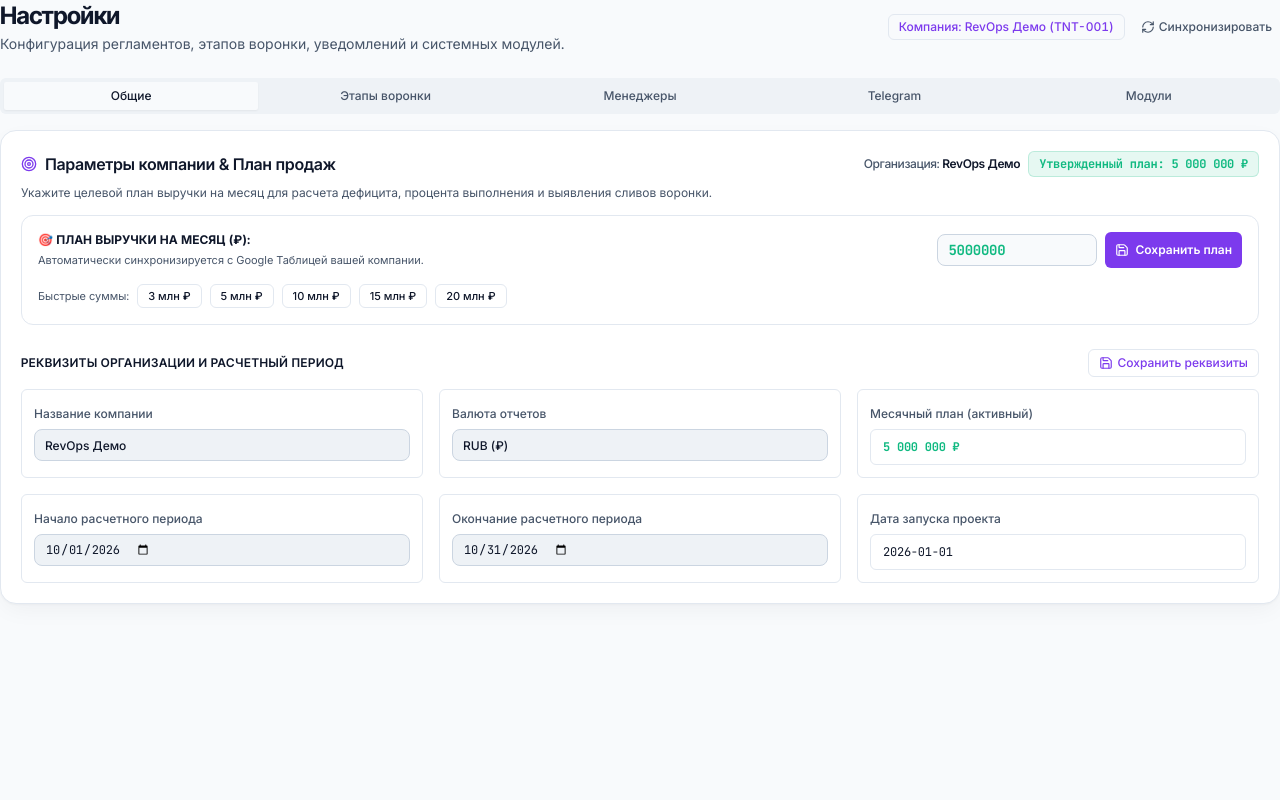
Scenario: SettingsPage › populates preset values when opening add manager form
Expected: the text "RevOps Демо" is shown, [942,156,1020,171]
Press Enter in the tab with test id "tab-managers", box [513,82,767,110]
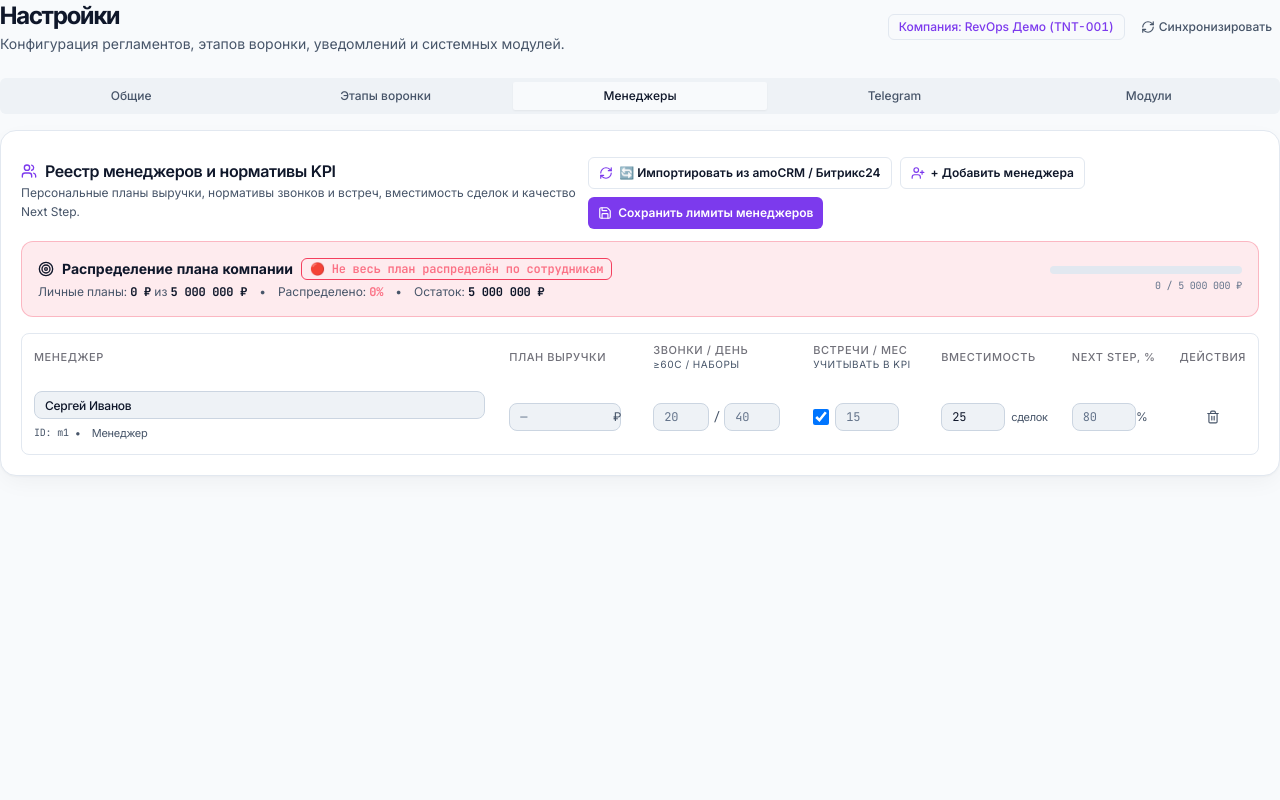
Click the button with test id "btn-add-manager". click: [992, 173]
box: [900,157,1085,189]
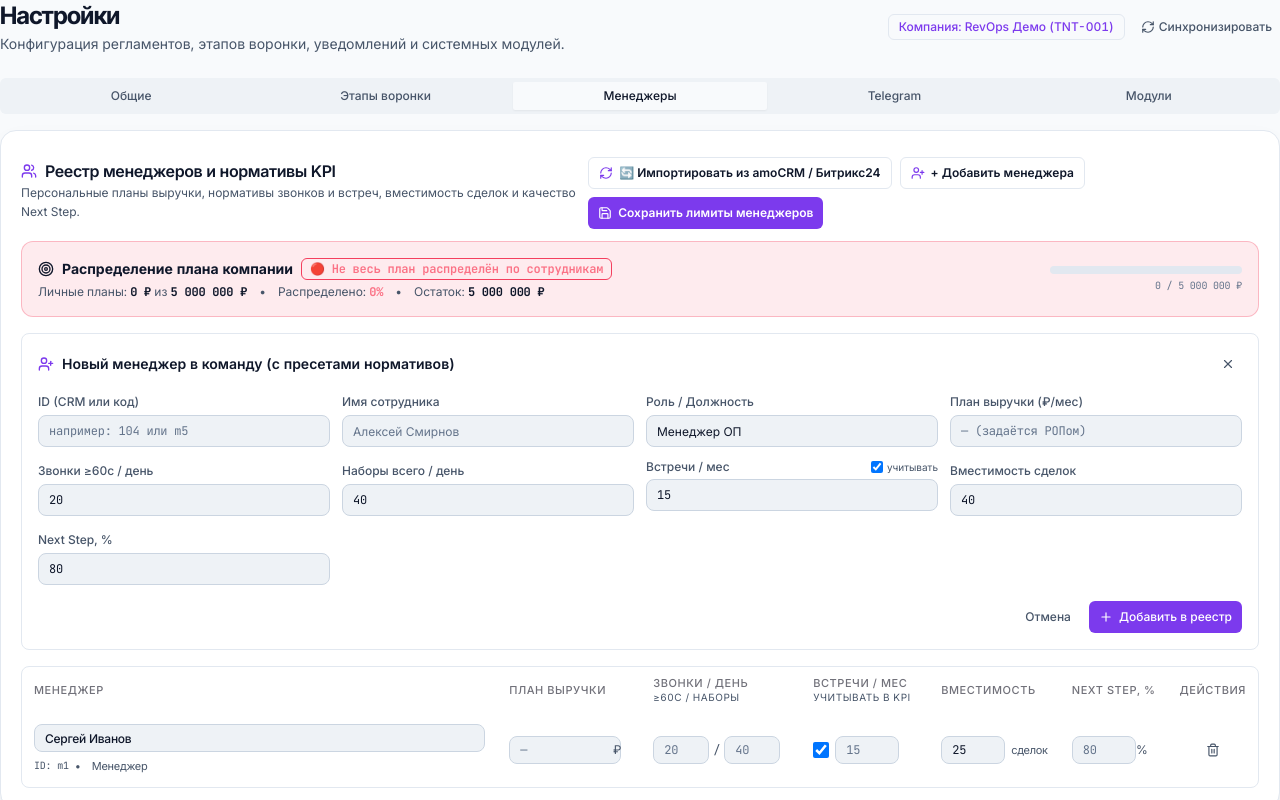
Result: the number field with test id "input-new-manager-calls" holds "20" at [38,484,330,516]
Result: the number field with test id "input-new-manager-meetings" holds "15" at [646,479,938,511]
Result: the number field with test id "input-new-manager-capacity" holds "40" at [950,484,1242,516]
# Fill new manager credentials
Type "m-new" into the field with test id "input-new-manager-id". click: [184, 431]
box: [38,415,330,447]
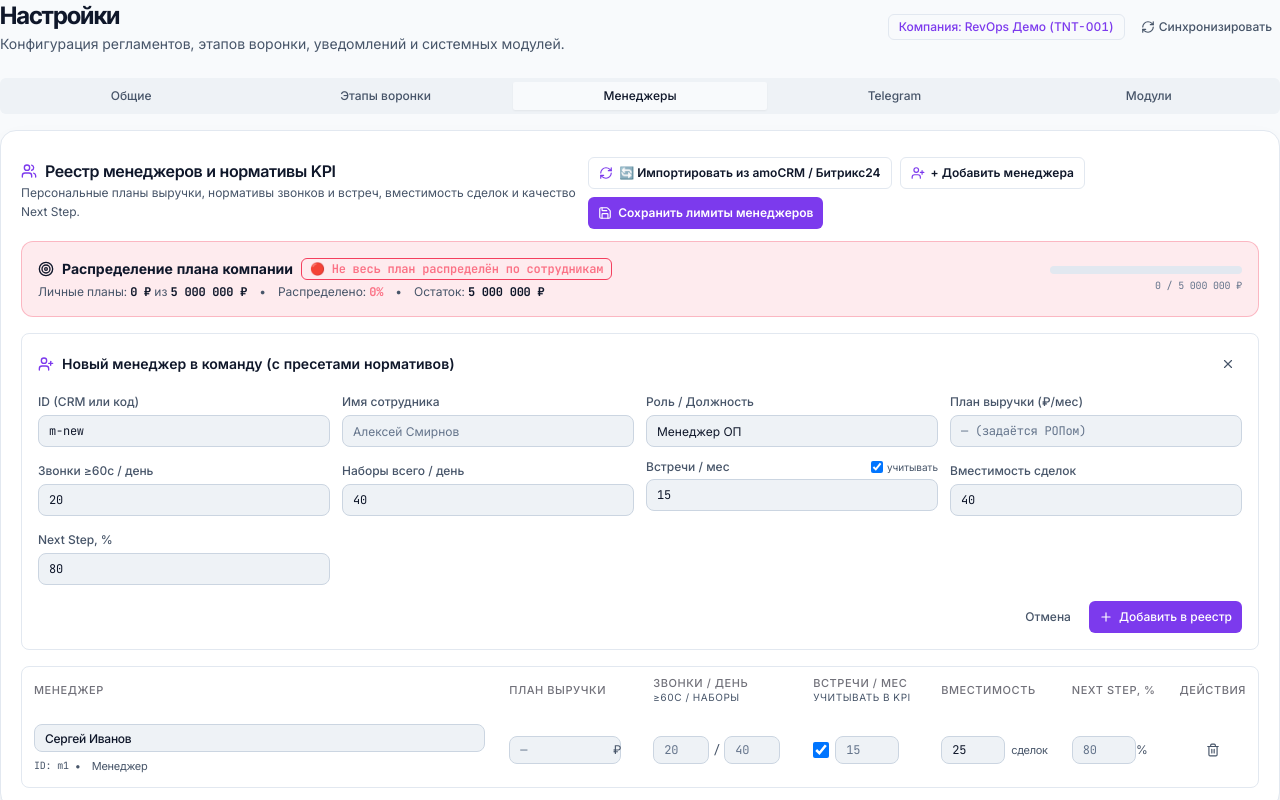
Type "Ольга Николаева" into the field with test id "input-new-manager-name". click: [488, 431]
box: [342,415,634,447]
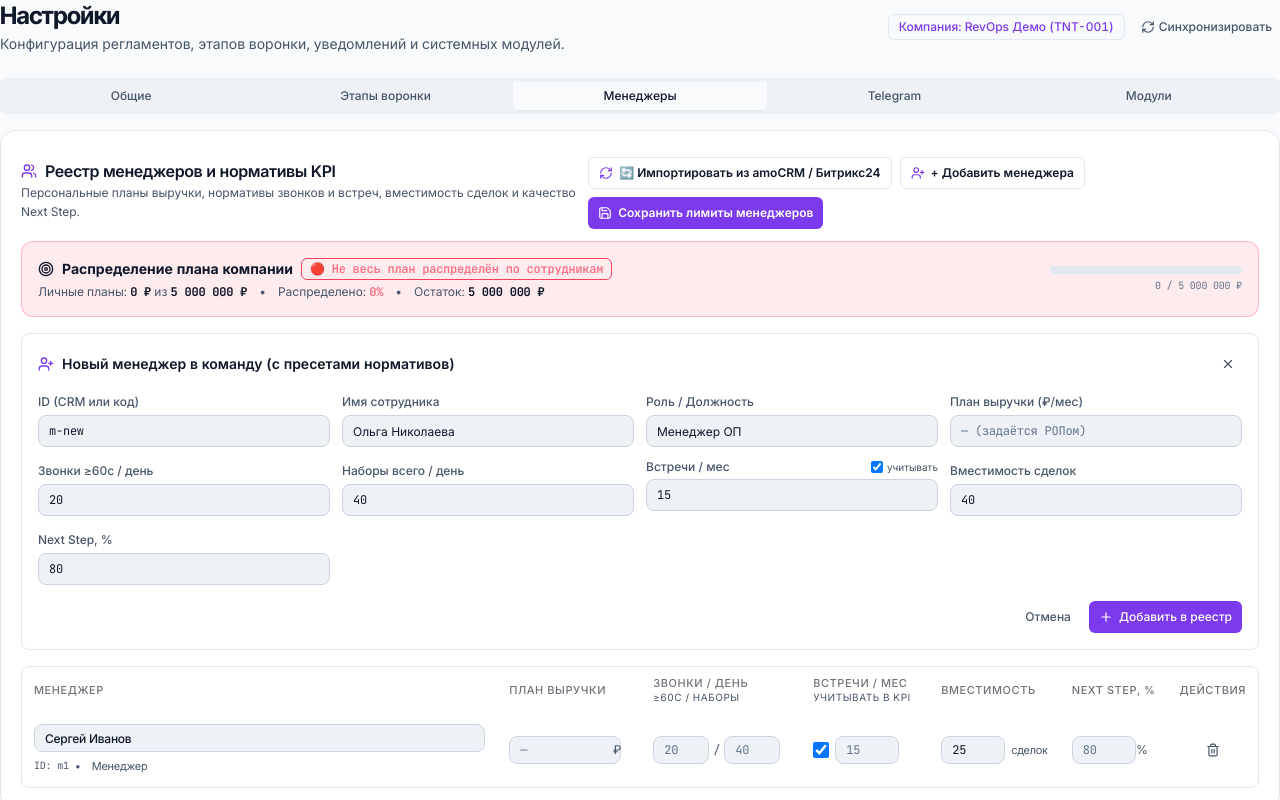
Type "1300000" into the number field with test id "input-new-manager-revenue". click: [1096, 431]
box: [950,415,1242,447]
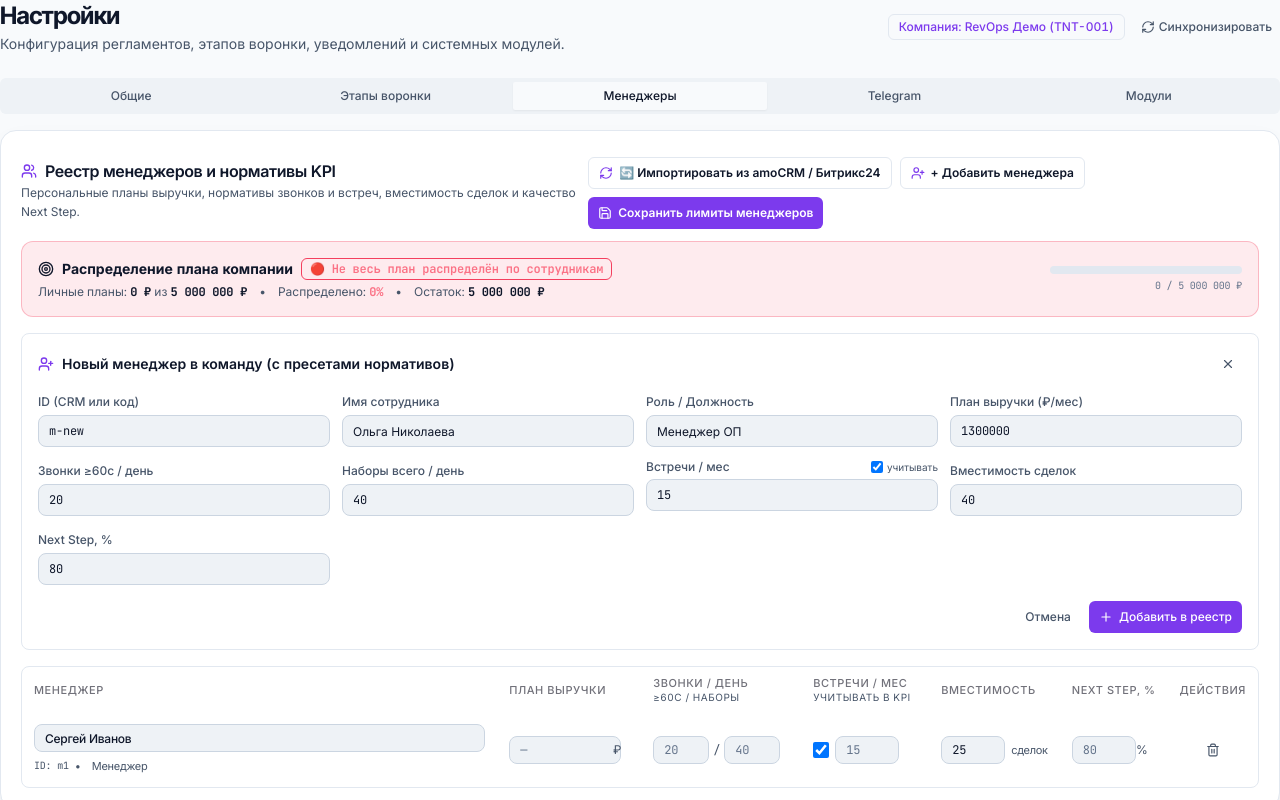
Click the button with test id "btn-confirm-add-manager". click: [1165, 617]
box: [1089,601,1242,633]
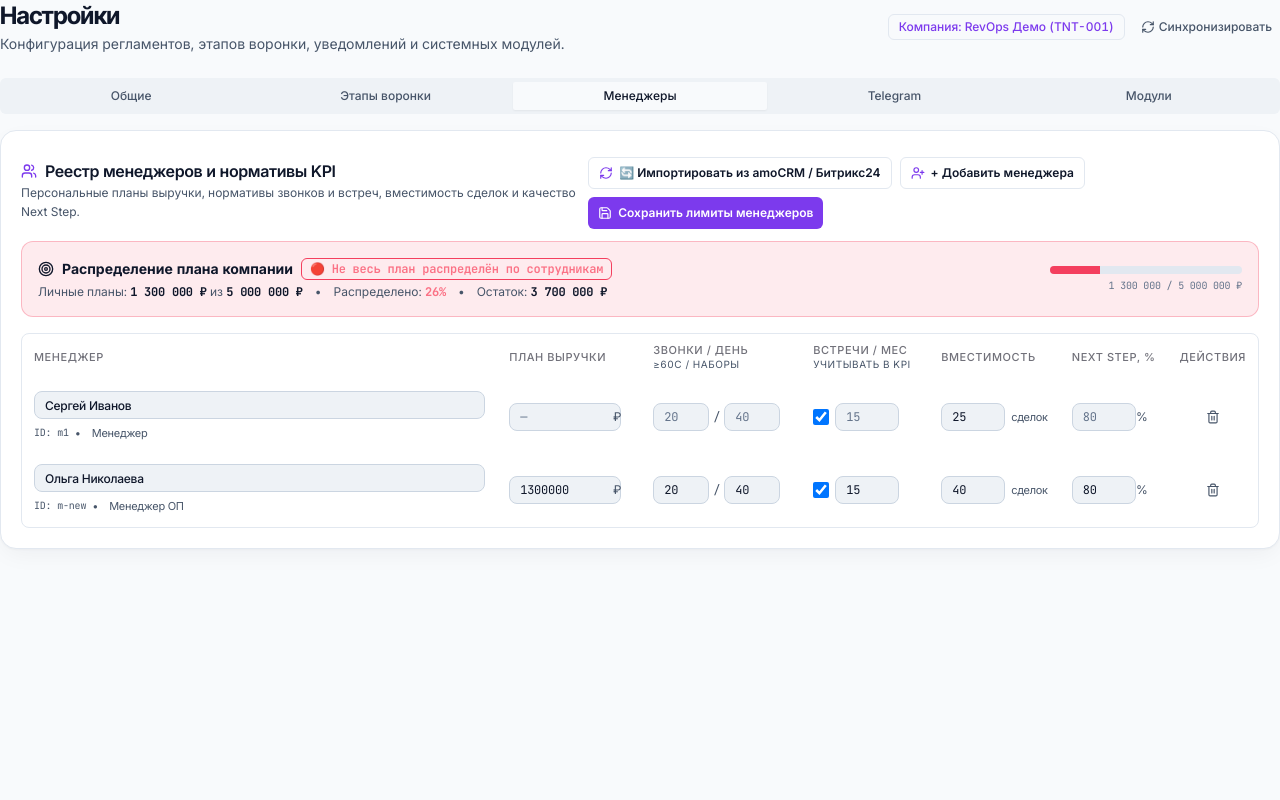
Result: the row with test id "manager-row-m-new" is shown at [22,454,1258,527]
Result: the 3rd field showing "Ольга Николаева" is shown at [34,464,485,492]
Result: the 2nd number field showing "1300000" is shown at [509,476,621,504]
